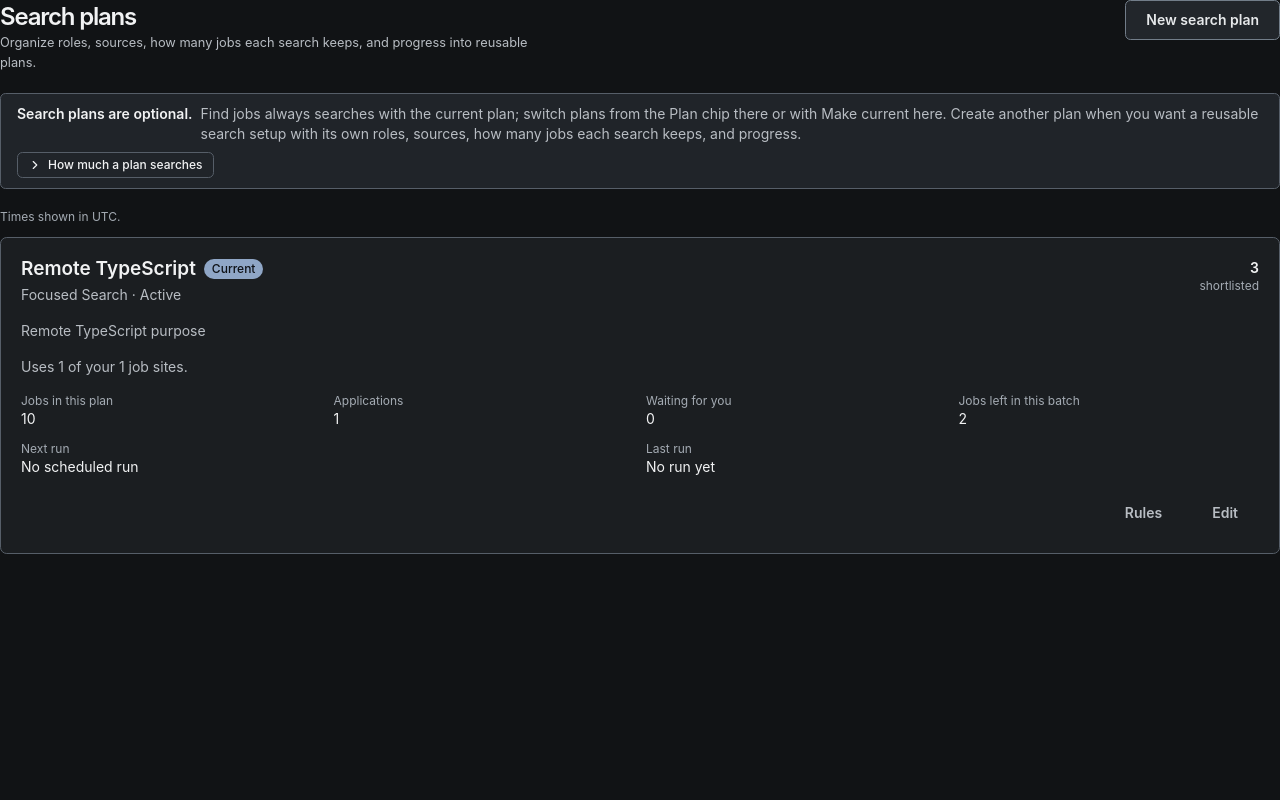
Test: CampaignsScreen › explains the selected discovery volume
This screenshot has width=1280, height=800.
Click the button "Edit": (1225, 513) [1191, 493, 1259, 533]
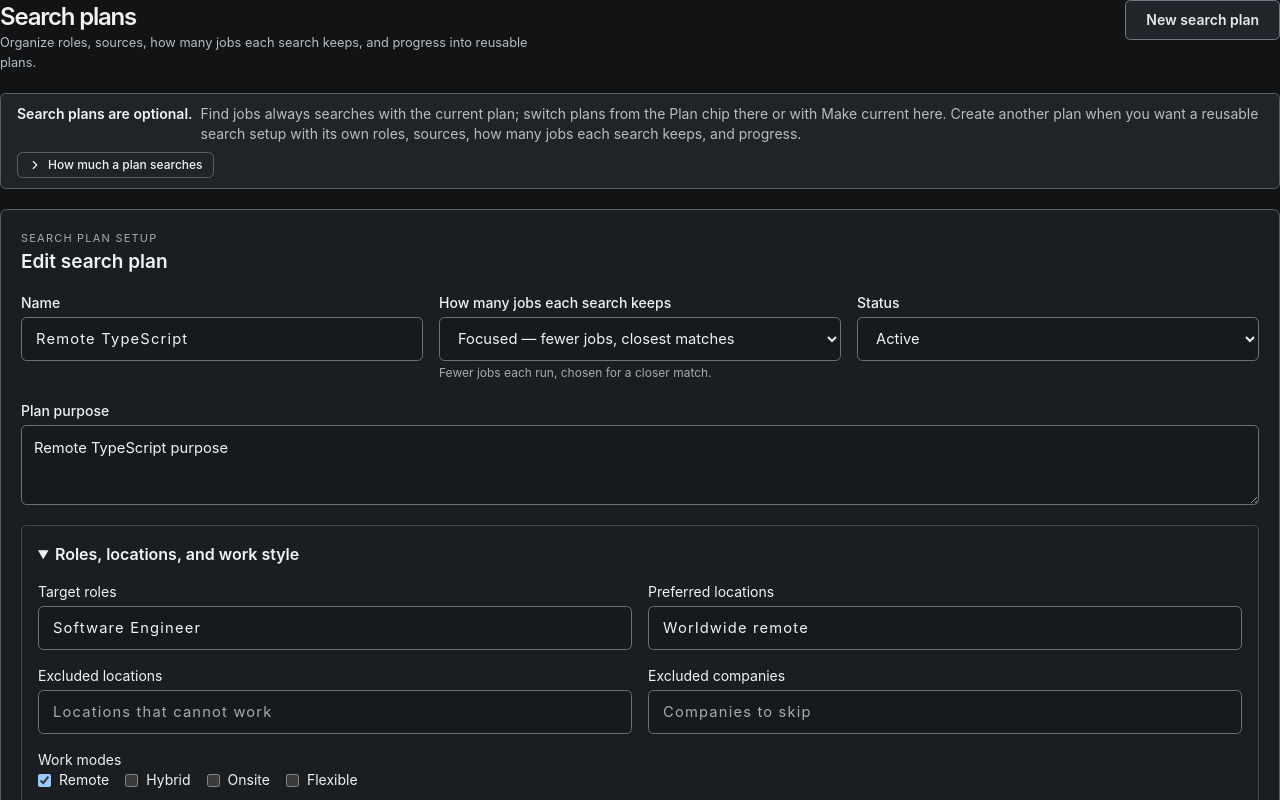
Expected: the text "Fewer jobs each run, chosen for a closer match." is shown, [439, 365, 712, 380]
Select "Wide — more jobs, more to review" in the dropdown labelled "How many jobs each search keeps": (640, 339) [439, 317, 841, 361]
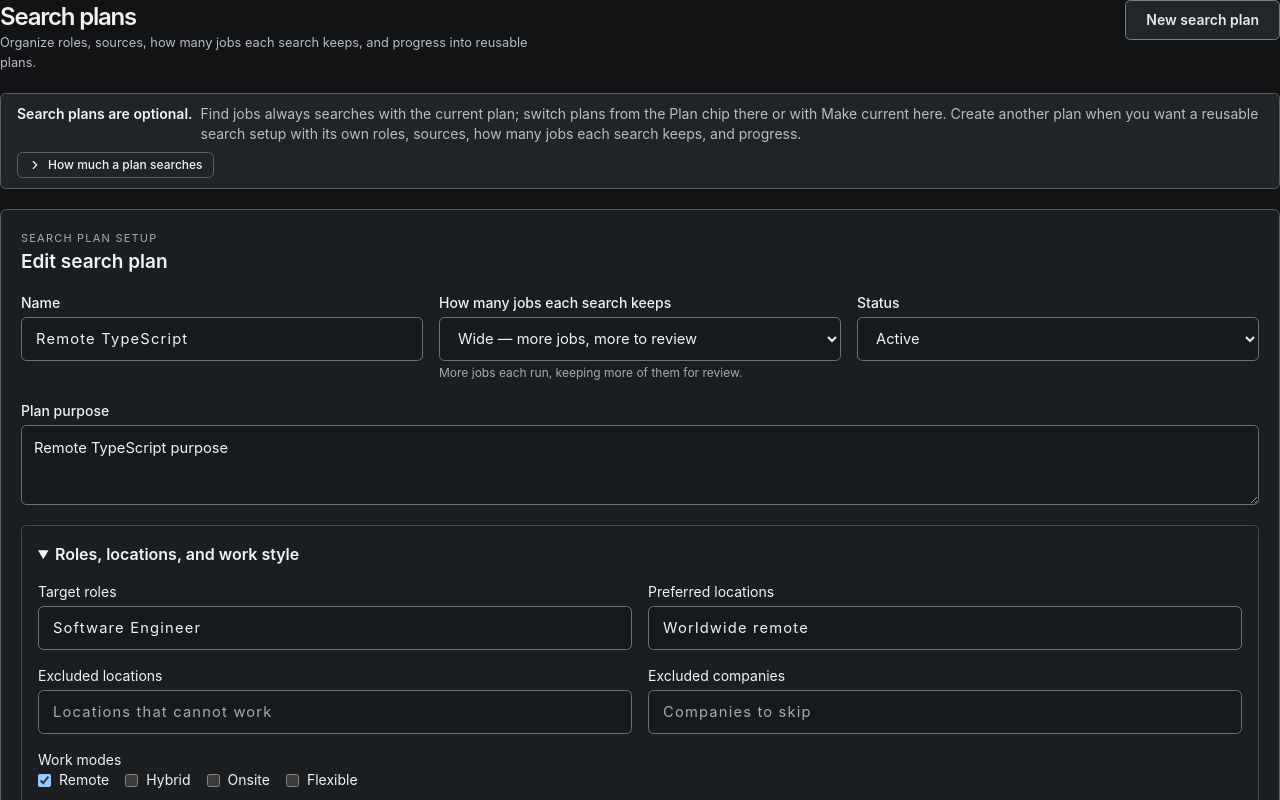
Expected: the text "More jobs each run, keeping more of them for review." is shown, [439, 365, 742, 380]
